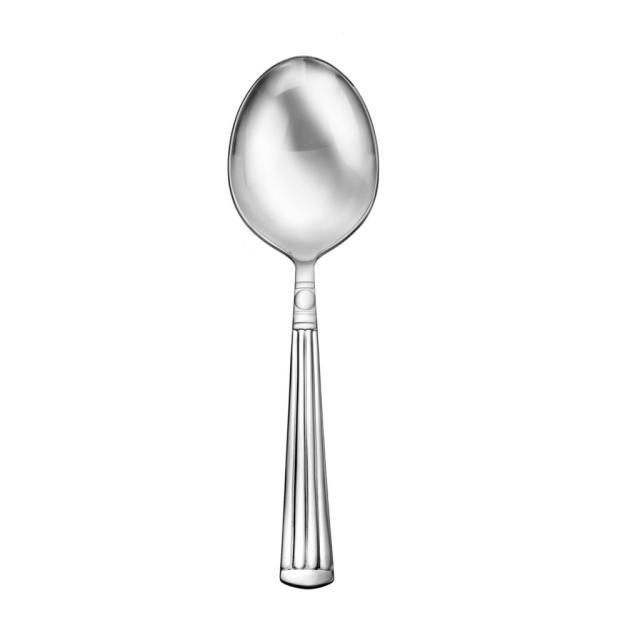spoon: (210, 50, 397, 595)
